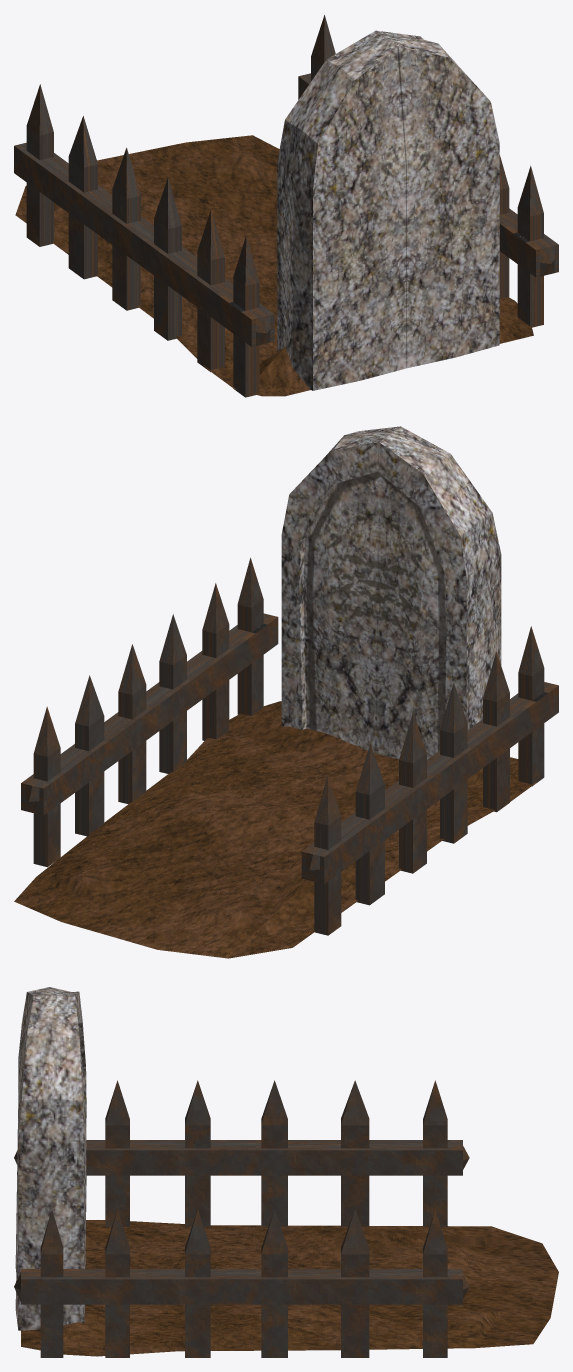
The model's file is gravestone_decorative.glb.
3 renders of one model, top to bottom at view 1: azimuth 30°, elevation 25°; view 2: azimuth 150°, elevation 25°; view 3: azimuth 270°, elevation 25°, orthographic. The views are drawn at different scales.
Visible parts, largest first — view 1: gravestone.001, metal_fence.001, ground.001, metal_fence; view 2: gravestone.001, ground.001, metal_fence.001, metal_fence; view 3: ground.001, metal_fence, metal_fence.001, gravestone.001.
Boxes of the visible parts, box(x1,y1,x2,y2) form: gravestone.001: box(277, 30, 499, 390); metal_fence.001: box(14, 84, 274, 397); ground.001: box(15, 135, 533, 396); metal_fence: box(298, 15, 558, 327); gravestone.001: box(281, 426, 501, 759); ground.001: box(14, 701, 536, 958); metal_fence.001: box(301, 626, 558, 935); metal_fence: box(21, 557, 278, 867); ground.001: box(21, 1220, 558, 1356); metal_fence: box(14, 1209, 469, 1357); metal_fence.001: box(14, 1080, 469, 1226); gravestone.001: box(15, 987, 86, 1330).
Bounding box in the file's own units: 2.04 × 2.01 × 3.37.
Materials: 4 (4 with a texture image).
